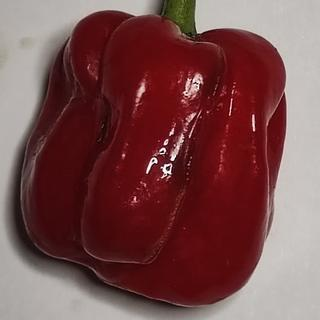Grade-A: (11, 5, 291, 312)
